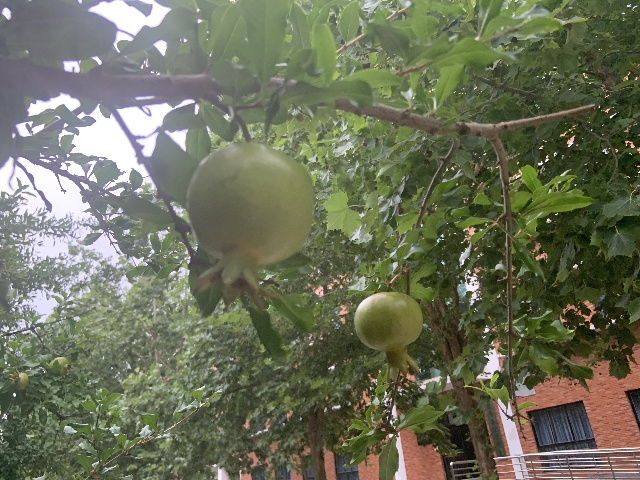mid-growth: (185, 142, 315, 312), (354, 292, 423, 383), (48, 356, 72, 376), (8, 370, 28, 390)
